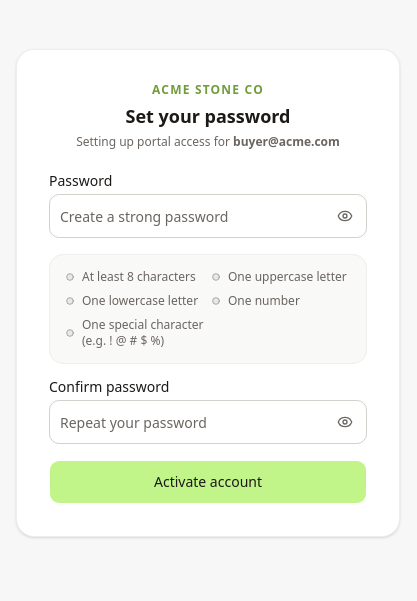
Scenario: AcceptInvitePage password validation › rejects a password that is no lowercase
Type "ABCDEFG1!" into the password field labelled "Password".
click(208, 216); type("ABCDEFG1!")  # box [49,194,367,238]
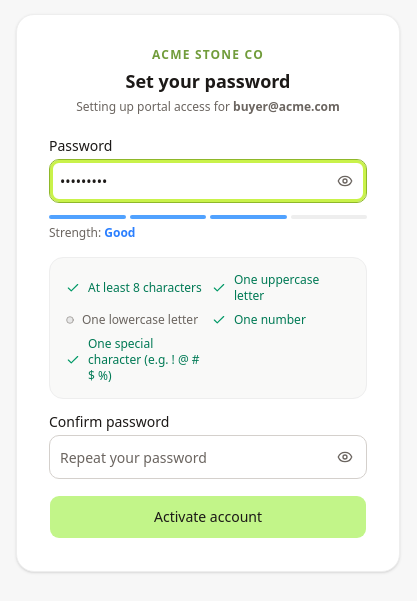
Type "ABCDEFG1!" into the password field labelled "Confirm password".
click(208, 457); type("ABCDEFG1!")  # box [49,435,367,479]
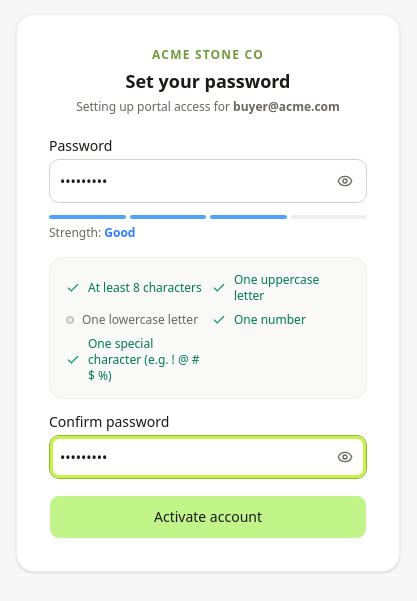
Click the button "Activate account".
click(208, 517)  # box [49,495,367,539]
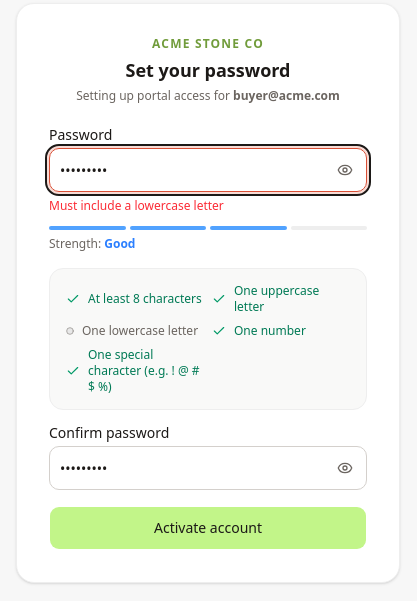
expect the text "Must include a lowercase letter" is shown: met, box [49,197,224,214]
